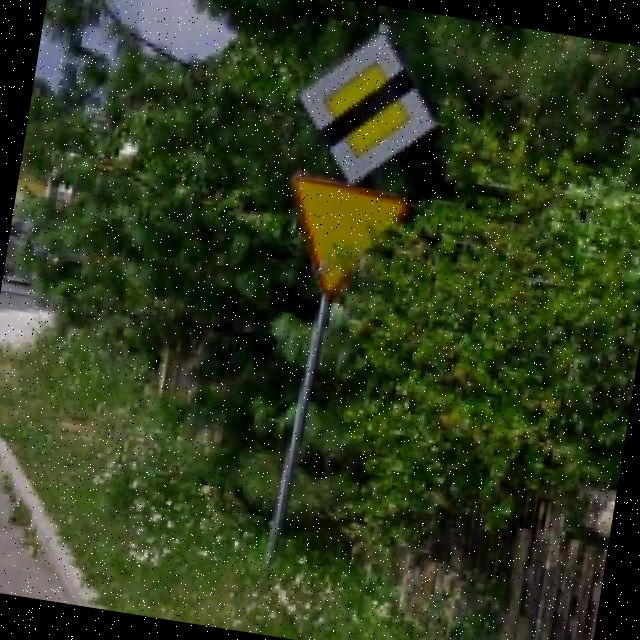Droga z pierwszenstwem: (281, 18, 455, 200)
Ustap pierwszenstwa: (272, 170, 416, 308)
